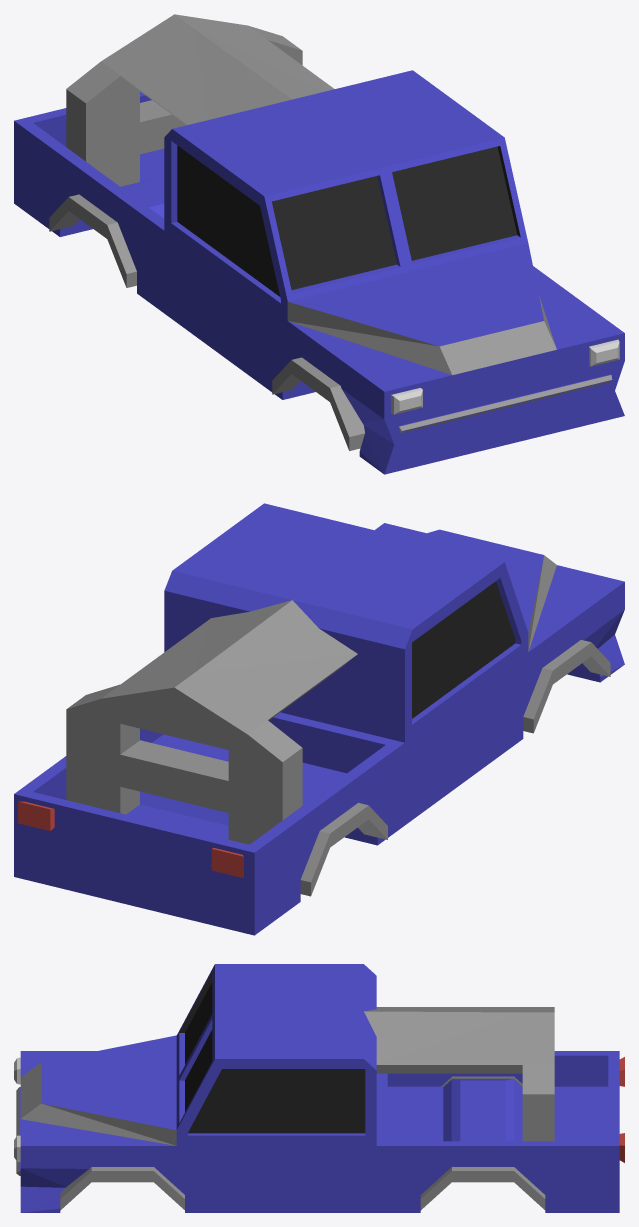
Rendered from pickup-closed-back.dae.
3 views of the same model, one above another, from view 1: azimuth 30°, elevation 25°; view 2: azimuth 150°, elevation 25°; view 3: azimuth 270°, elevation 25° (orthographic). The views are drawn at different scales.
Visible parts, largest first — view 1: Cube; view 2: Cube; view 3: Cube.
Boxes of the visible parts, box(x1,y1,x2,y2) form: Cube: box(14, 14, 624, 474); Cube: box(14, 503, 624, 935); Cube: box(14, 964, 624, 1212).
Size of the model in its own units: 2.17 by 5.44 by 1.51.
